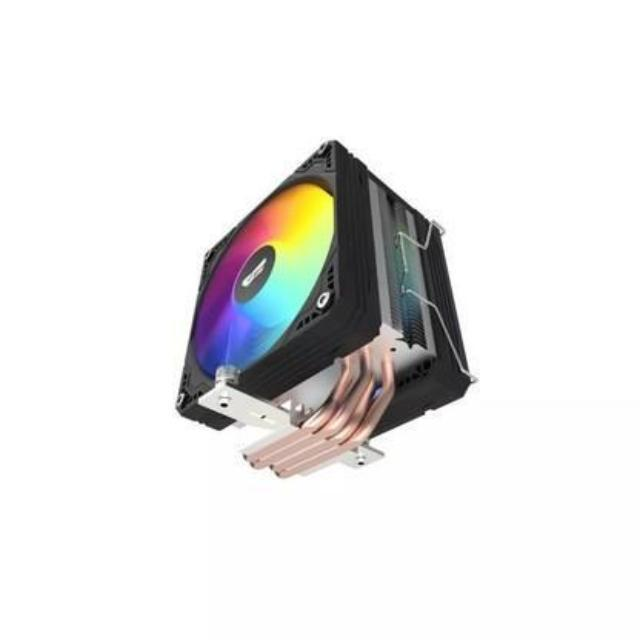CPU_Fan: (166, 136, 474, 493)
